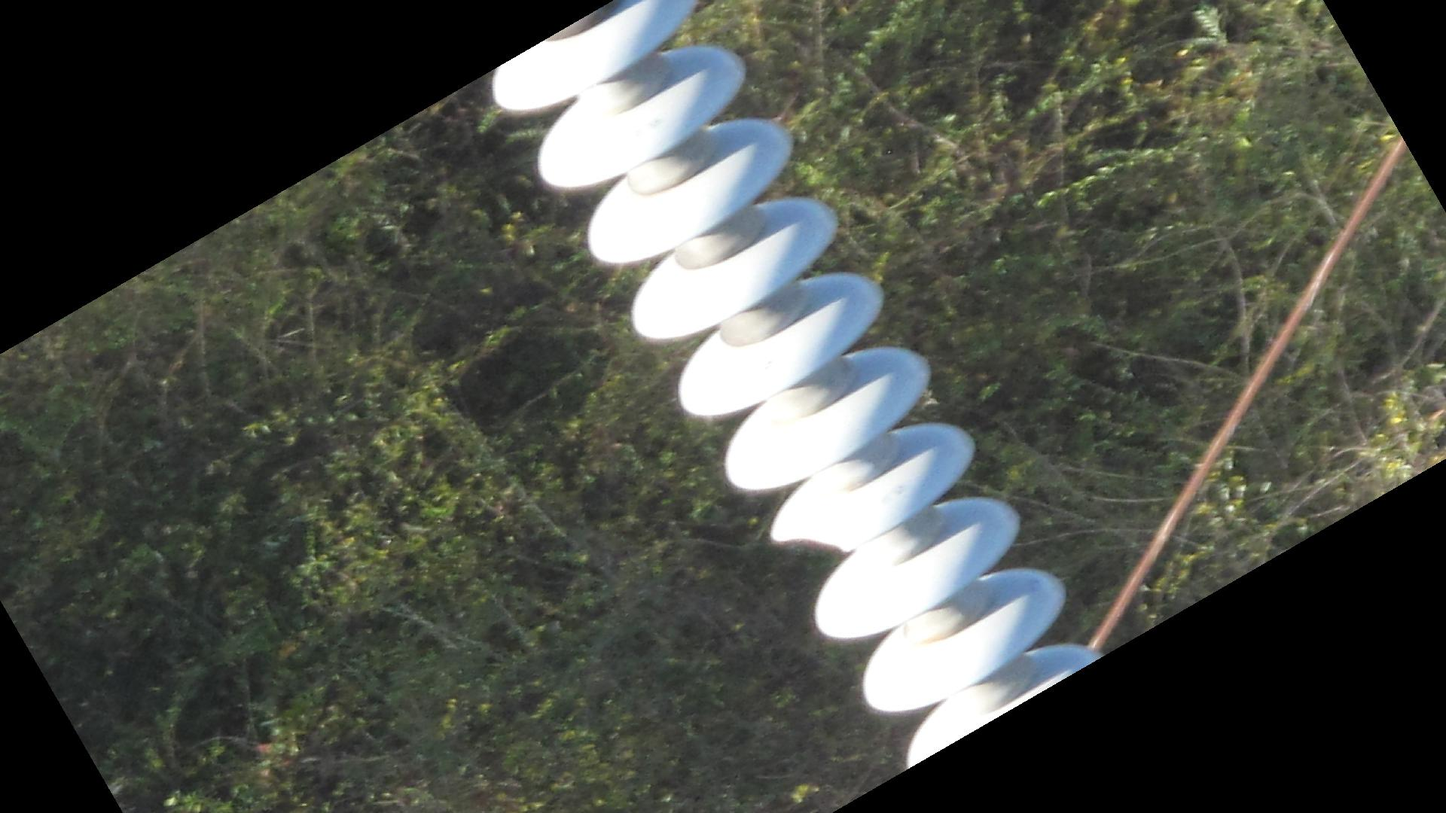insulator: (487, 1, 1112, 790)
insulator_breakage: (761, 525, 855, 560)
